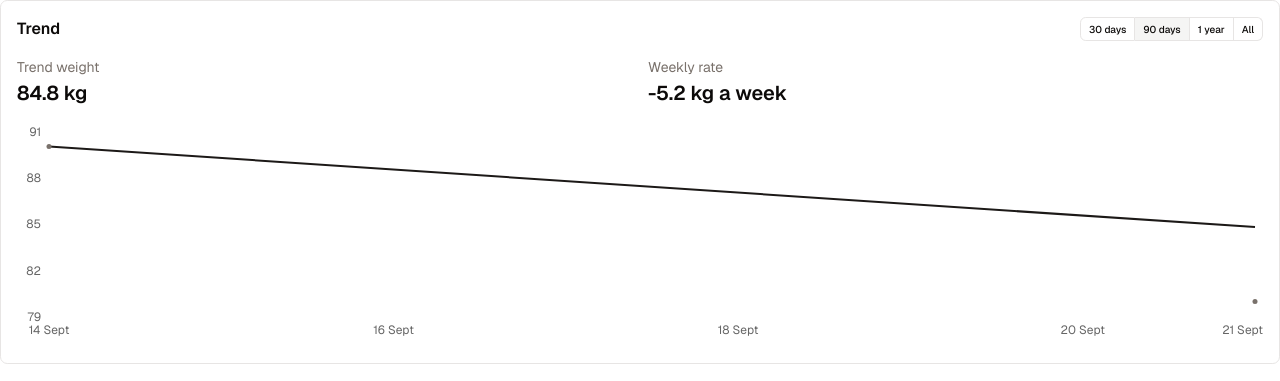
Test case: WeightChart › keeps the trend of the weights before the range
Step 1. Click the button "30 days" → [1108, 29], box x1=1080 y1=17 x2=1135 y2=41
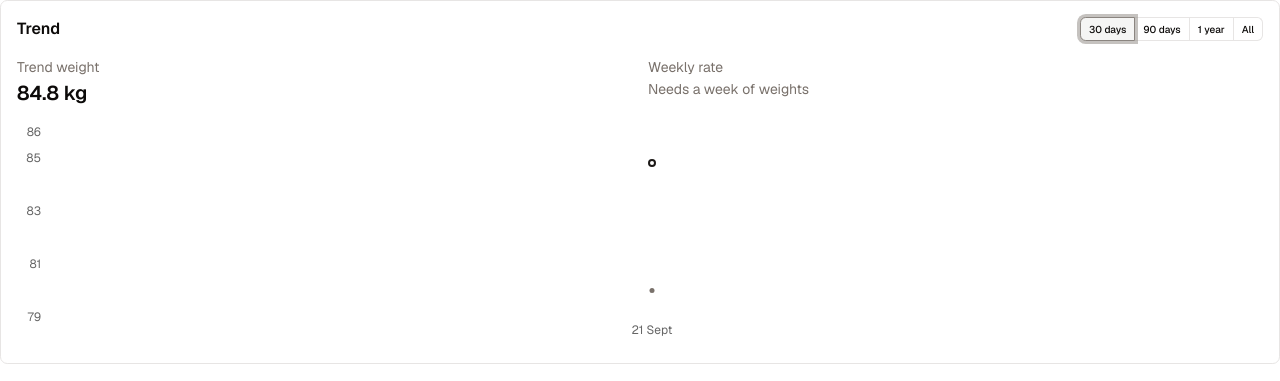
Check: the text "84.8 kg" is shown, box x1=17 y1=80 x2=87 y2=106
Step 2. Click the button "All" → [1248, 29], box x1=1234 y1=17 x2=1263 y2=41
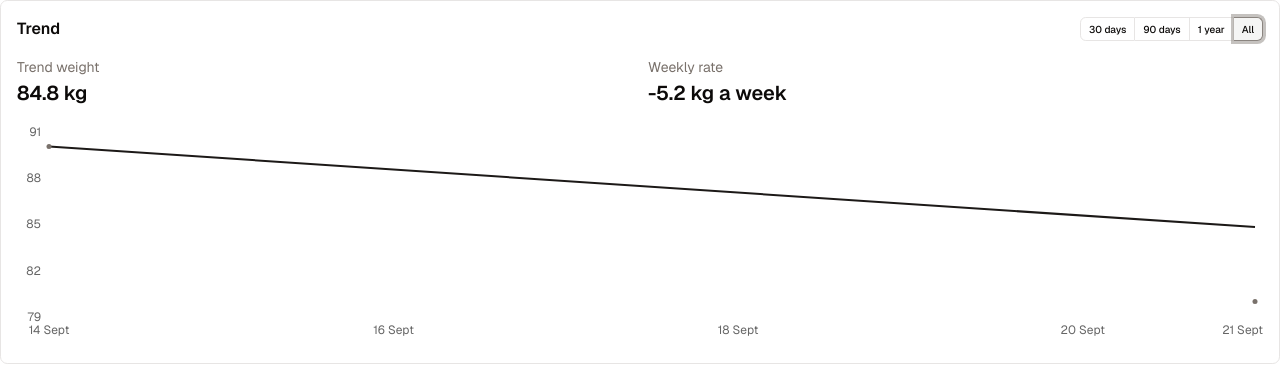
Check: the text "84.8 kg" is shown, box x1=17 y1=80 x2=87 y2=106
Check: the text "-5.2 kg a week" is shown, box x1=648 y1=80 x2=787 y2=106
